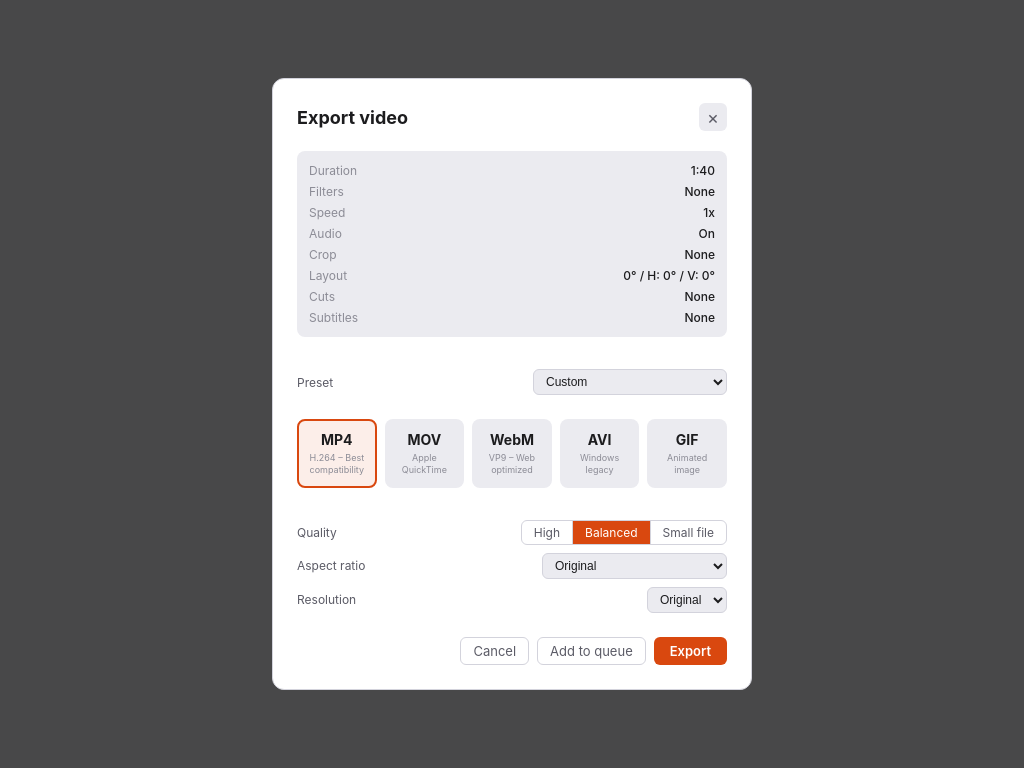
ExportModal — export options › GIF › keeps the resolution choice for video when switching back
Select "480p" in the dropdown with id "opt-resolution" at (687, 600), box [647,587,727,613]
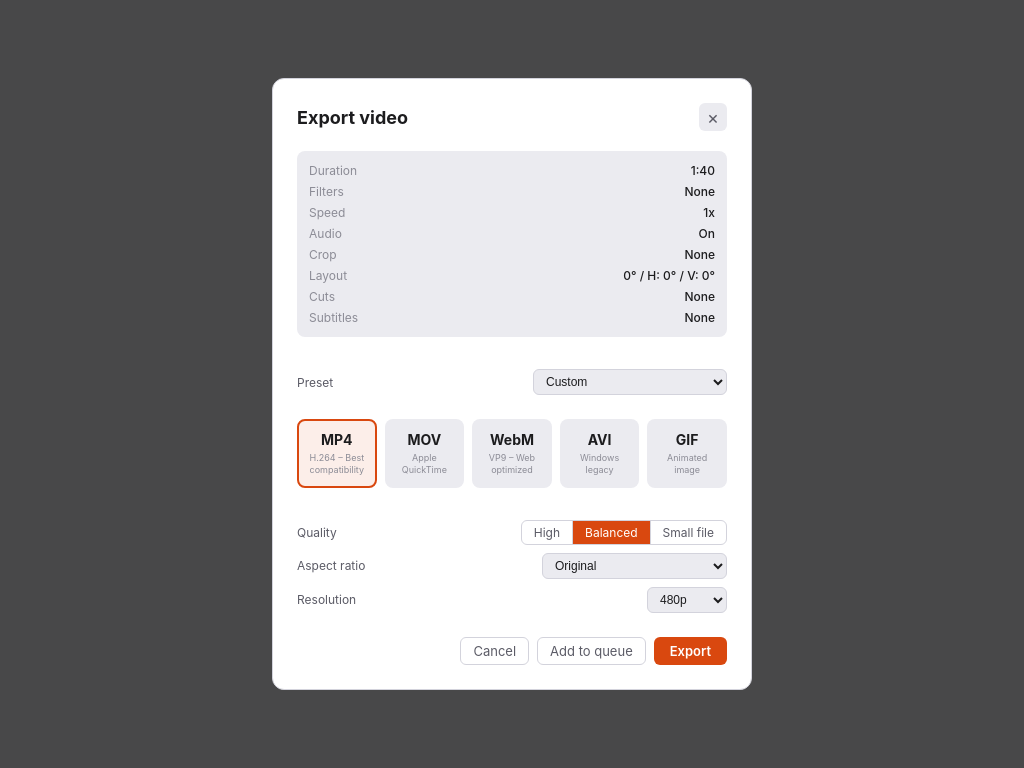
Click the button with class "format-card" showing "GIF Animated image" at (687, 454), box [647,419,727,488]
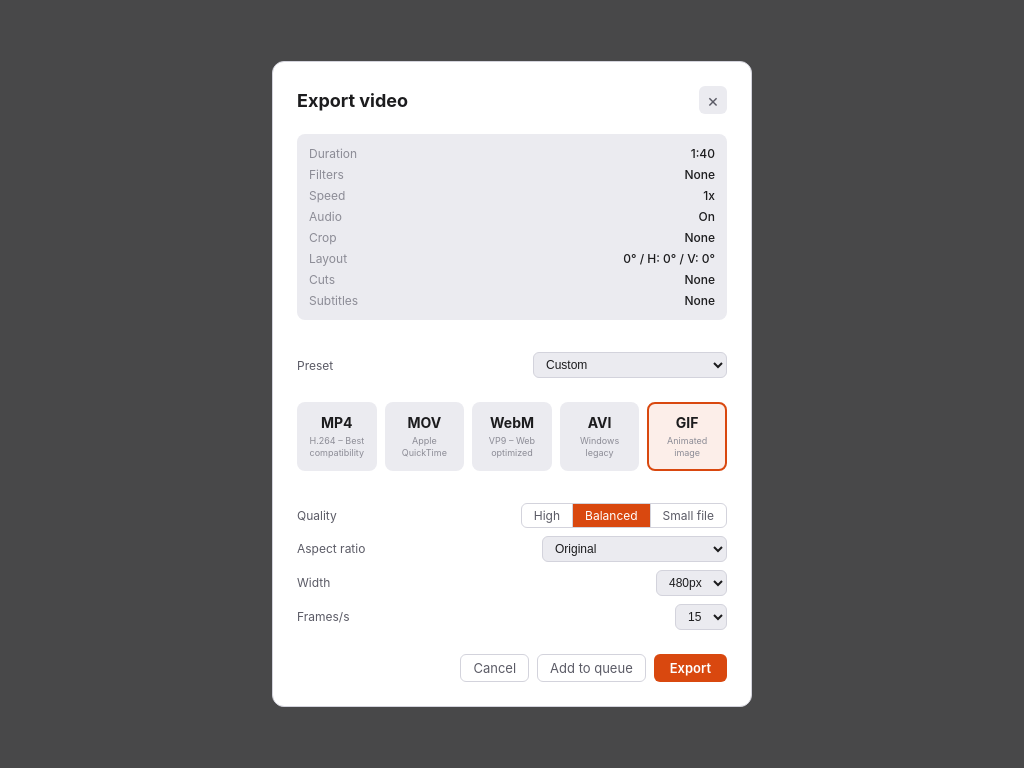
Click the button with class "format-card" showing "WebM VP9 – Web optimized" at (512, 436), box [472,402,552,471]
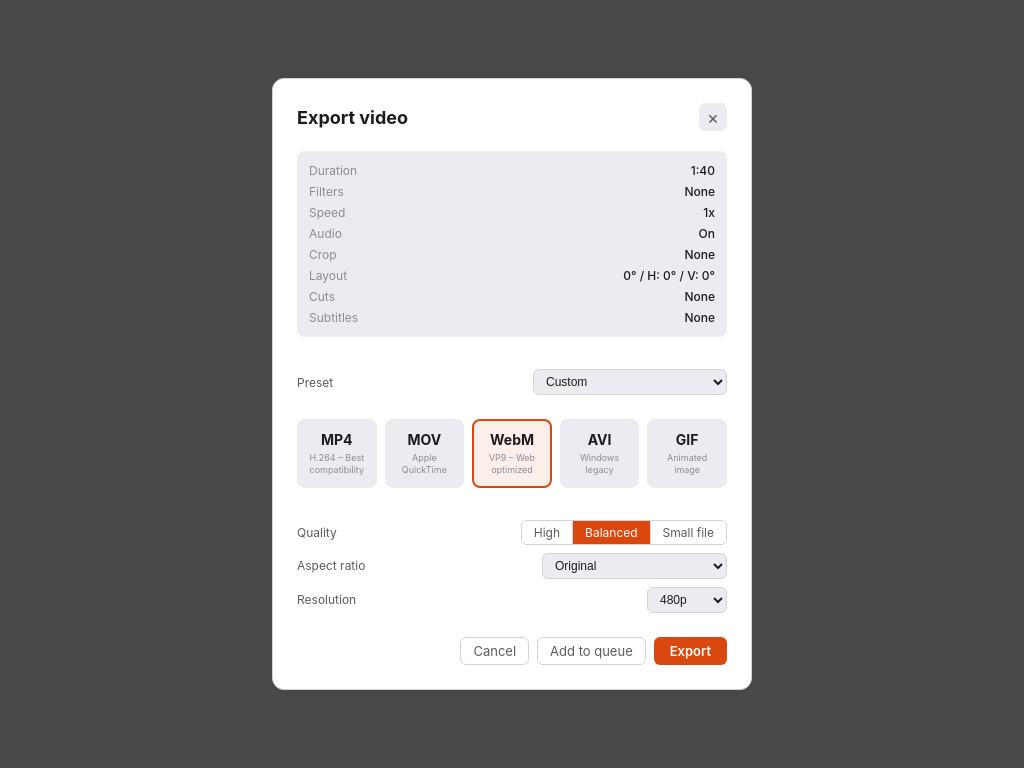
Result: the dropdown with id "opt-resolution" shows "480p" at [647,587,727,613]
